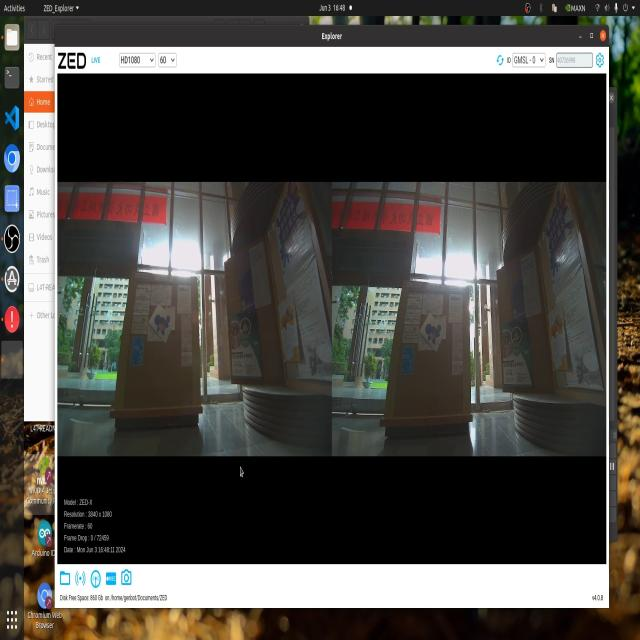blue: (420, 307, 444, 353), (148, 308, 179, 341)
